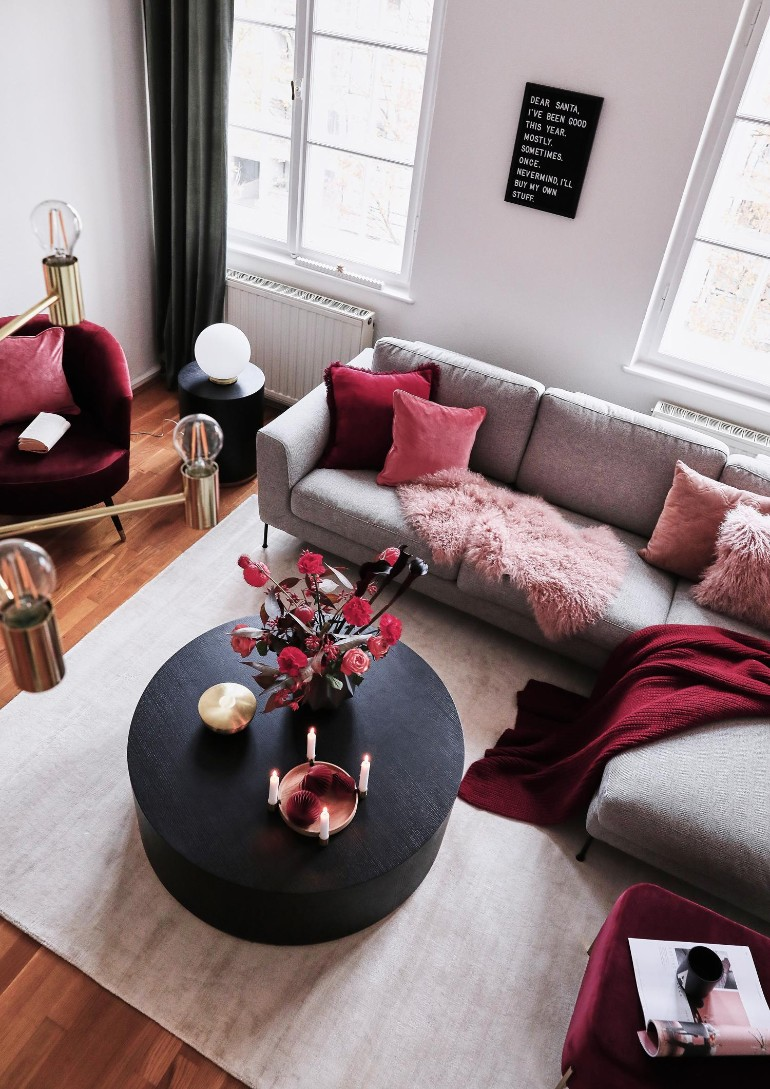hitam: (127, 614, 465, 944), (502, 83, 602, 222), (224, 378, 258, 483), (677, 945, 721, 1004)
merah: (522, 631, 770, 743), (1, 320, 135, 504), (328, 364, 397, 462)
pink: (453, 506, 622, 597), (658, 467, 770, 594), (385, 404, 476, 494), (1, 339, 73, 421)
putih: (194, 320, 254, 386), (20, 414, 67, 450)
